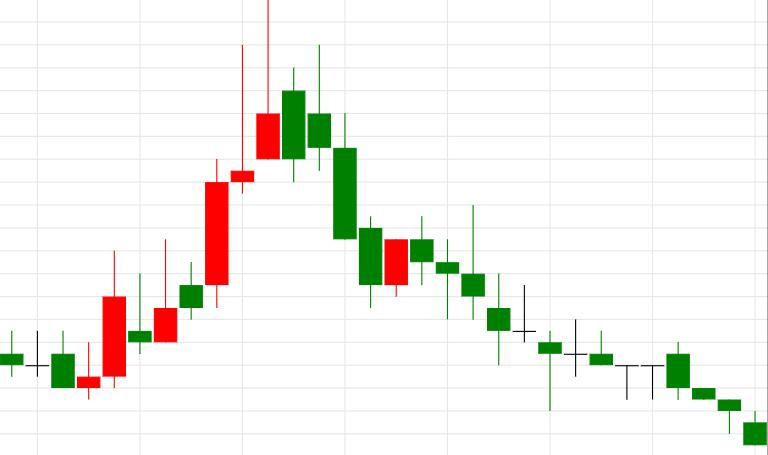shooting_star_fall: (77, 0, 279, 399)
